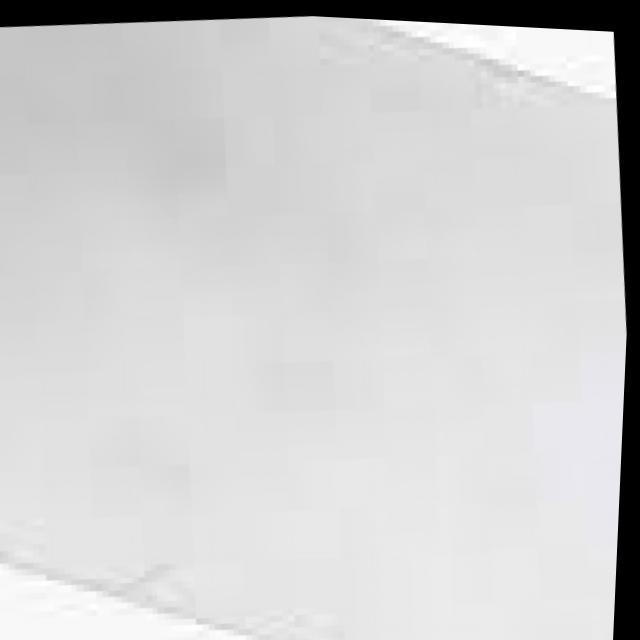metal-plates: (1, 13, 630, 640)
